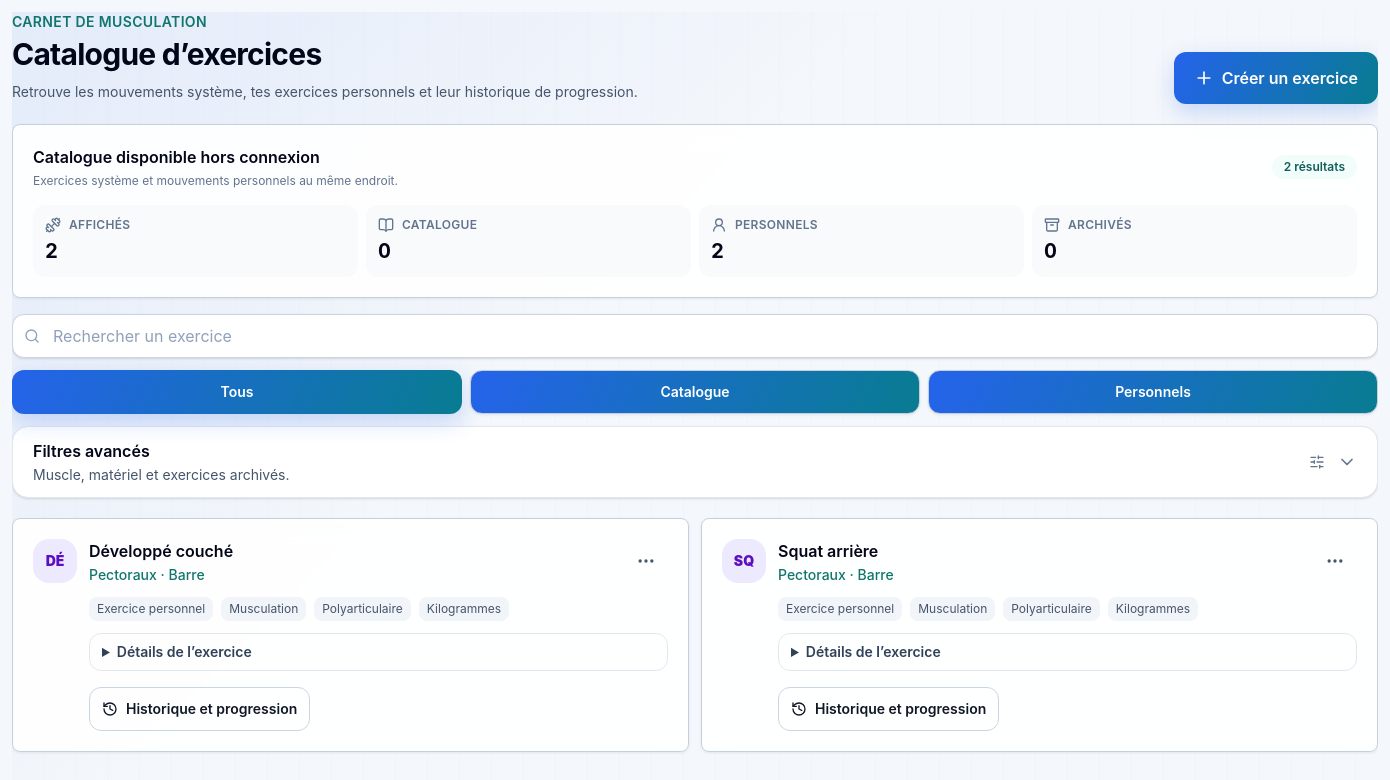
Scenario: StrengthExercisesPage › conserve le toast et la navigation après une duplication réussie
Click the button named "Actions pour Squat arrière" at (1335, 561), box [1313, 539, 1357, 583]
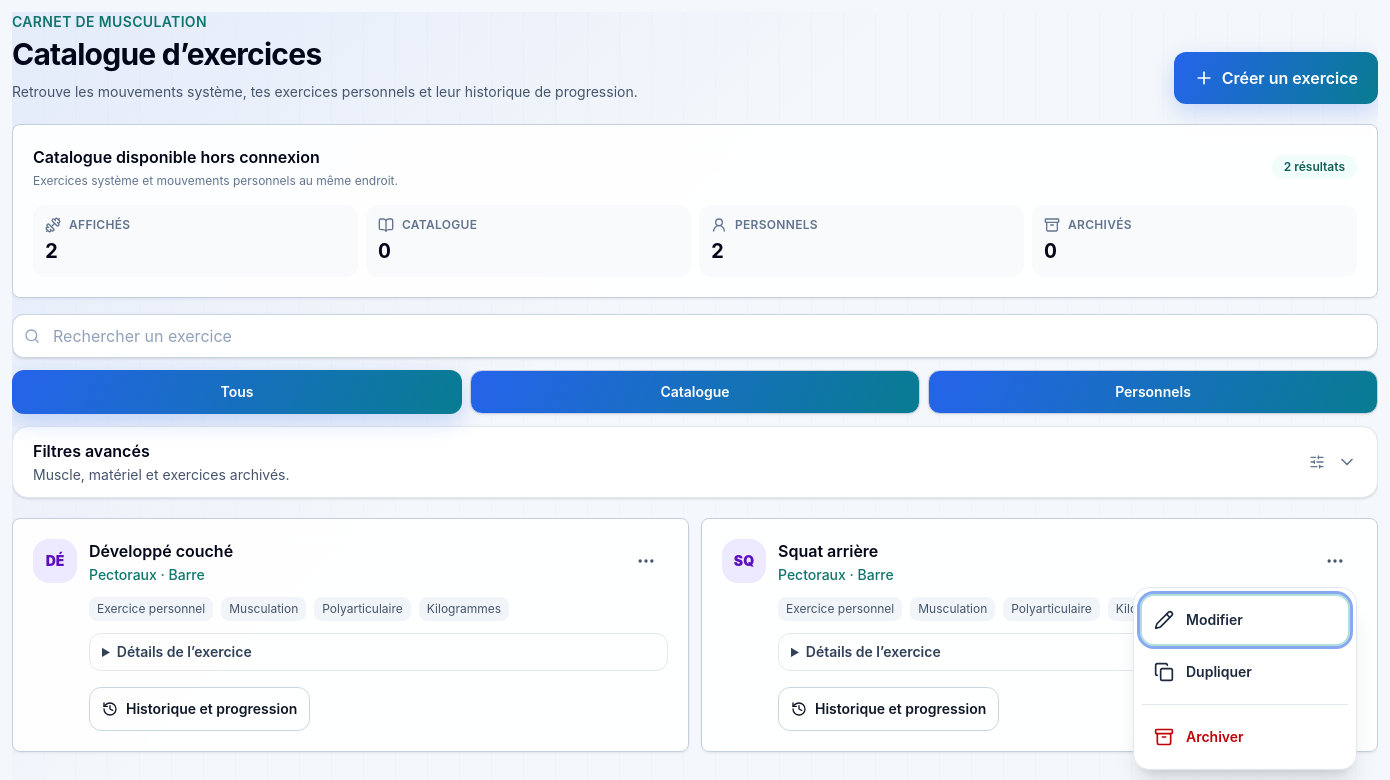
Click the menu item "Dupliquer" at (1245, 672), box [1142, 648, 1348, 696]
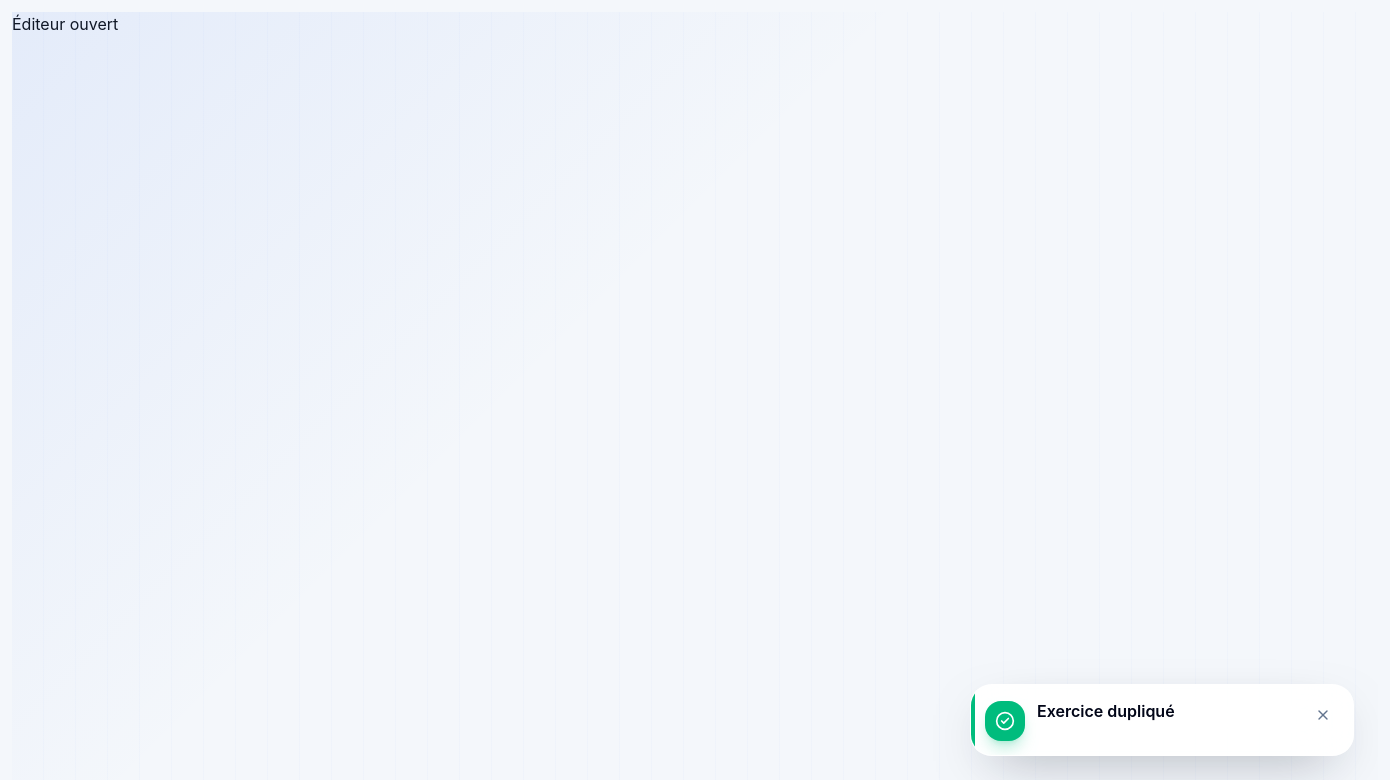
Result: the heading "Éditeur ouvert" is shown at [12, 14, 118, 34]
Result: the number of messages is 1 at [970, 684, 1354, 756]
Result: the message reads "Exercice dupliqué" at [1037, 701, 1175, 721]
